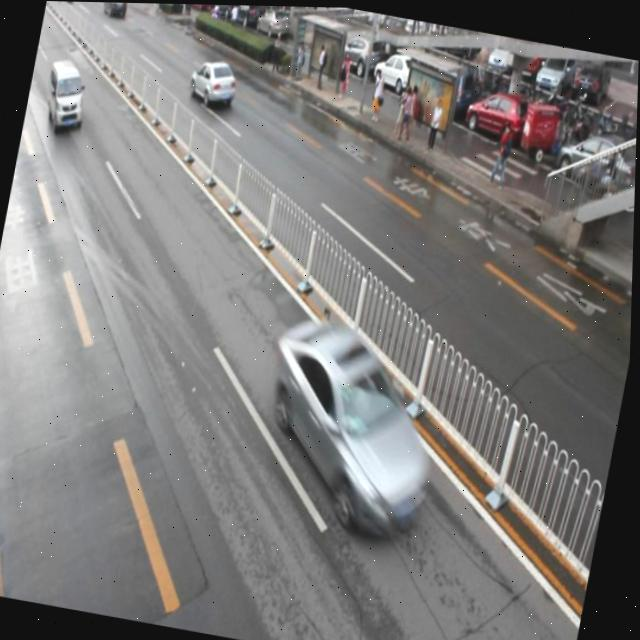car: (248, 310, 450, 535), (187, 53, 241, 110)
truck: (41, 55, 93, 137)
